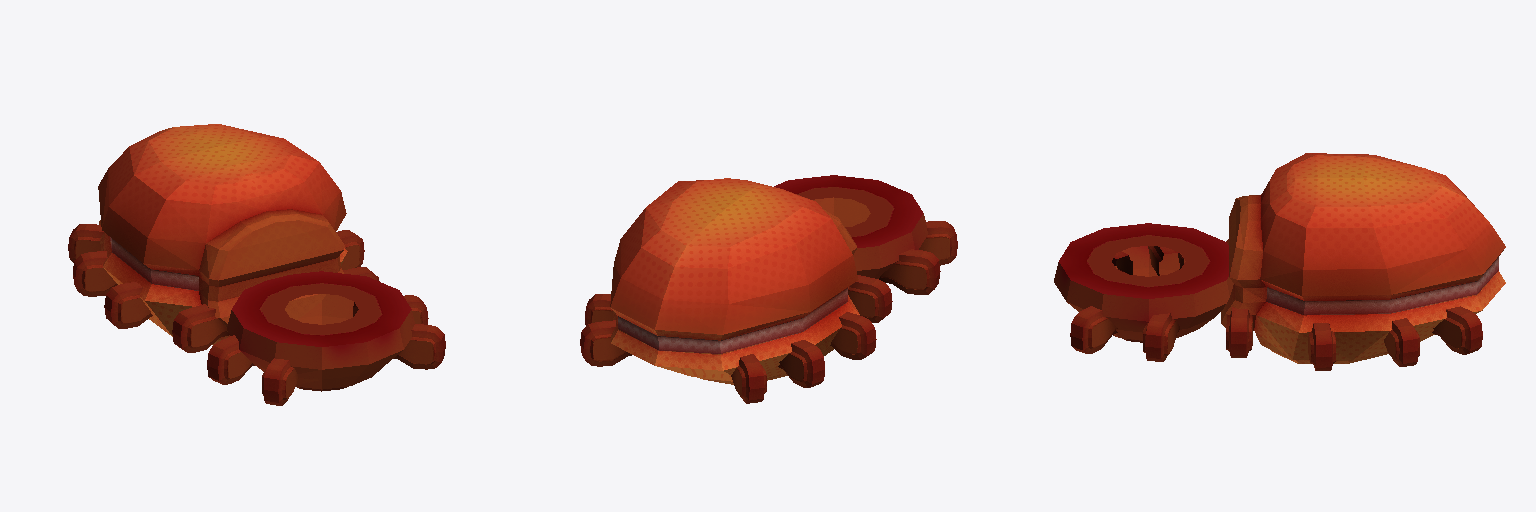
3 views of the same model, side by side, from view 1: azimuth 30°, elevation 25°; view 2: azimuth 150°, elevation 25°; view 3: azimuth 270°, elevation 25° (orthographic).
Visible parts, largest first — view 1: spider-body; view 2: spider-body; view 3: spider-body.
Boxes of the visible parts, <box> form: spider-body: <box>68,124,445,405</box>; spider-body: <box>580,175,957,403</box>; spider-body: <box>1054,153,1505,370</box>.
Size of the model in its own units: 4.86 by 2.87 by 7.51.
1 materials, 1 textured.